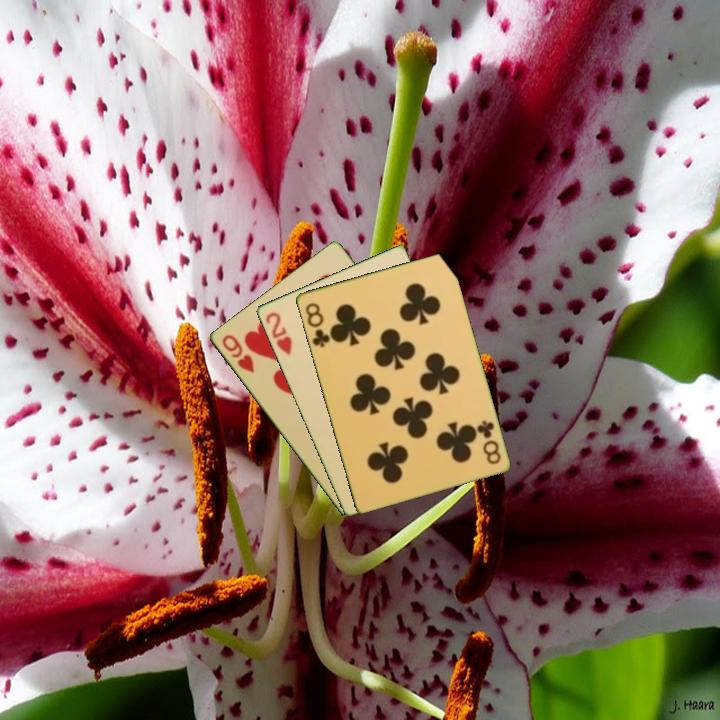2h: (262, 308, 295, 358)
8c: (301, 299, 333, 350), (473, 417, 503, 467)
9h: (218, 331, 257, 376)
